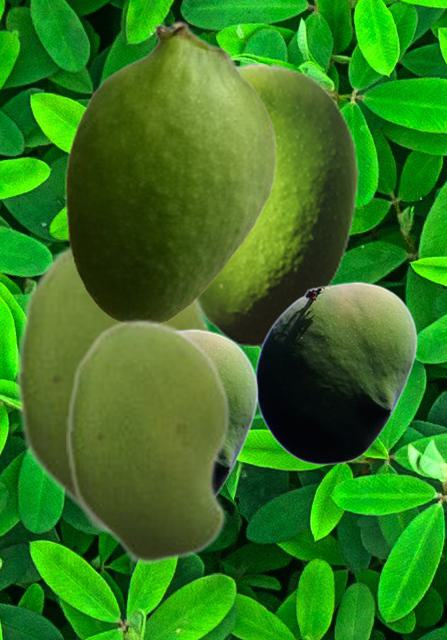green_mango: (64, 20, 276, 322), (15, 241, 213, 533), (201, 62, 358, 346), (66, 318, 230, 565), (255, 281, 417, 464), (182, 328, 258, 493)
